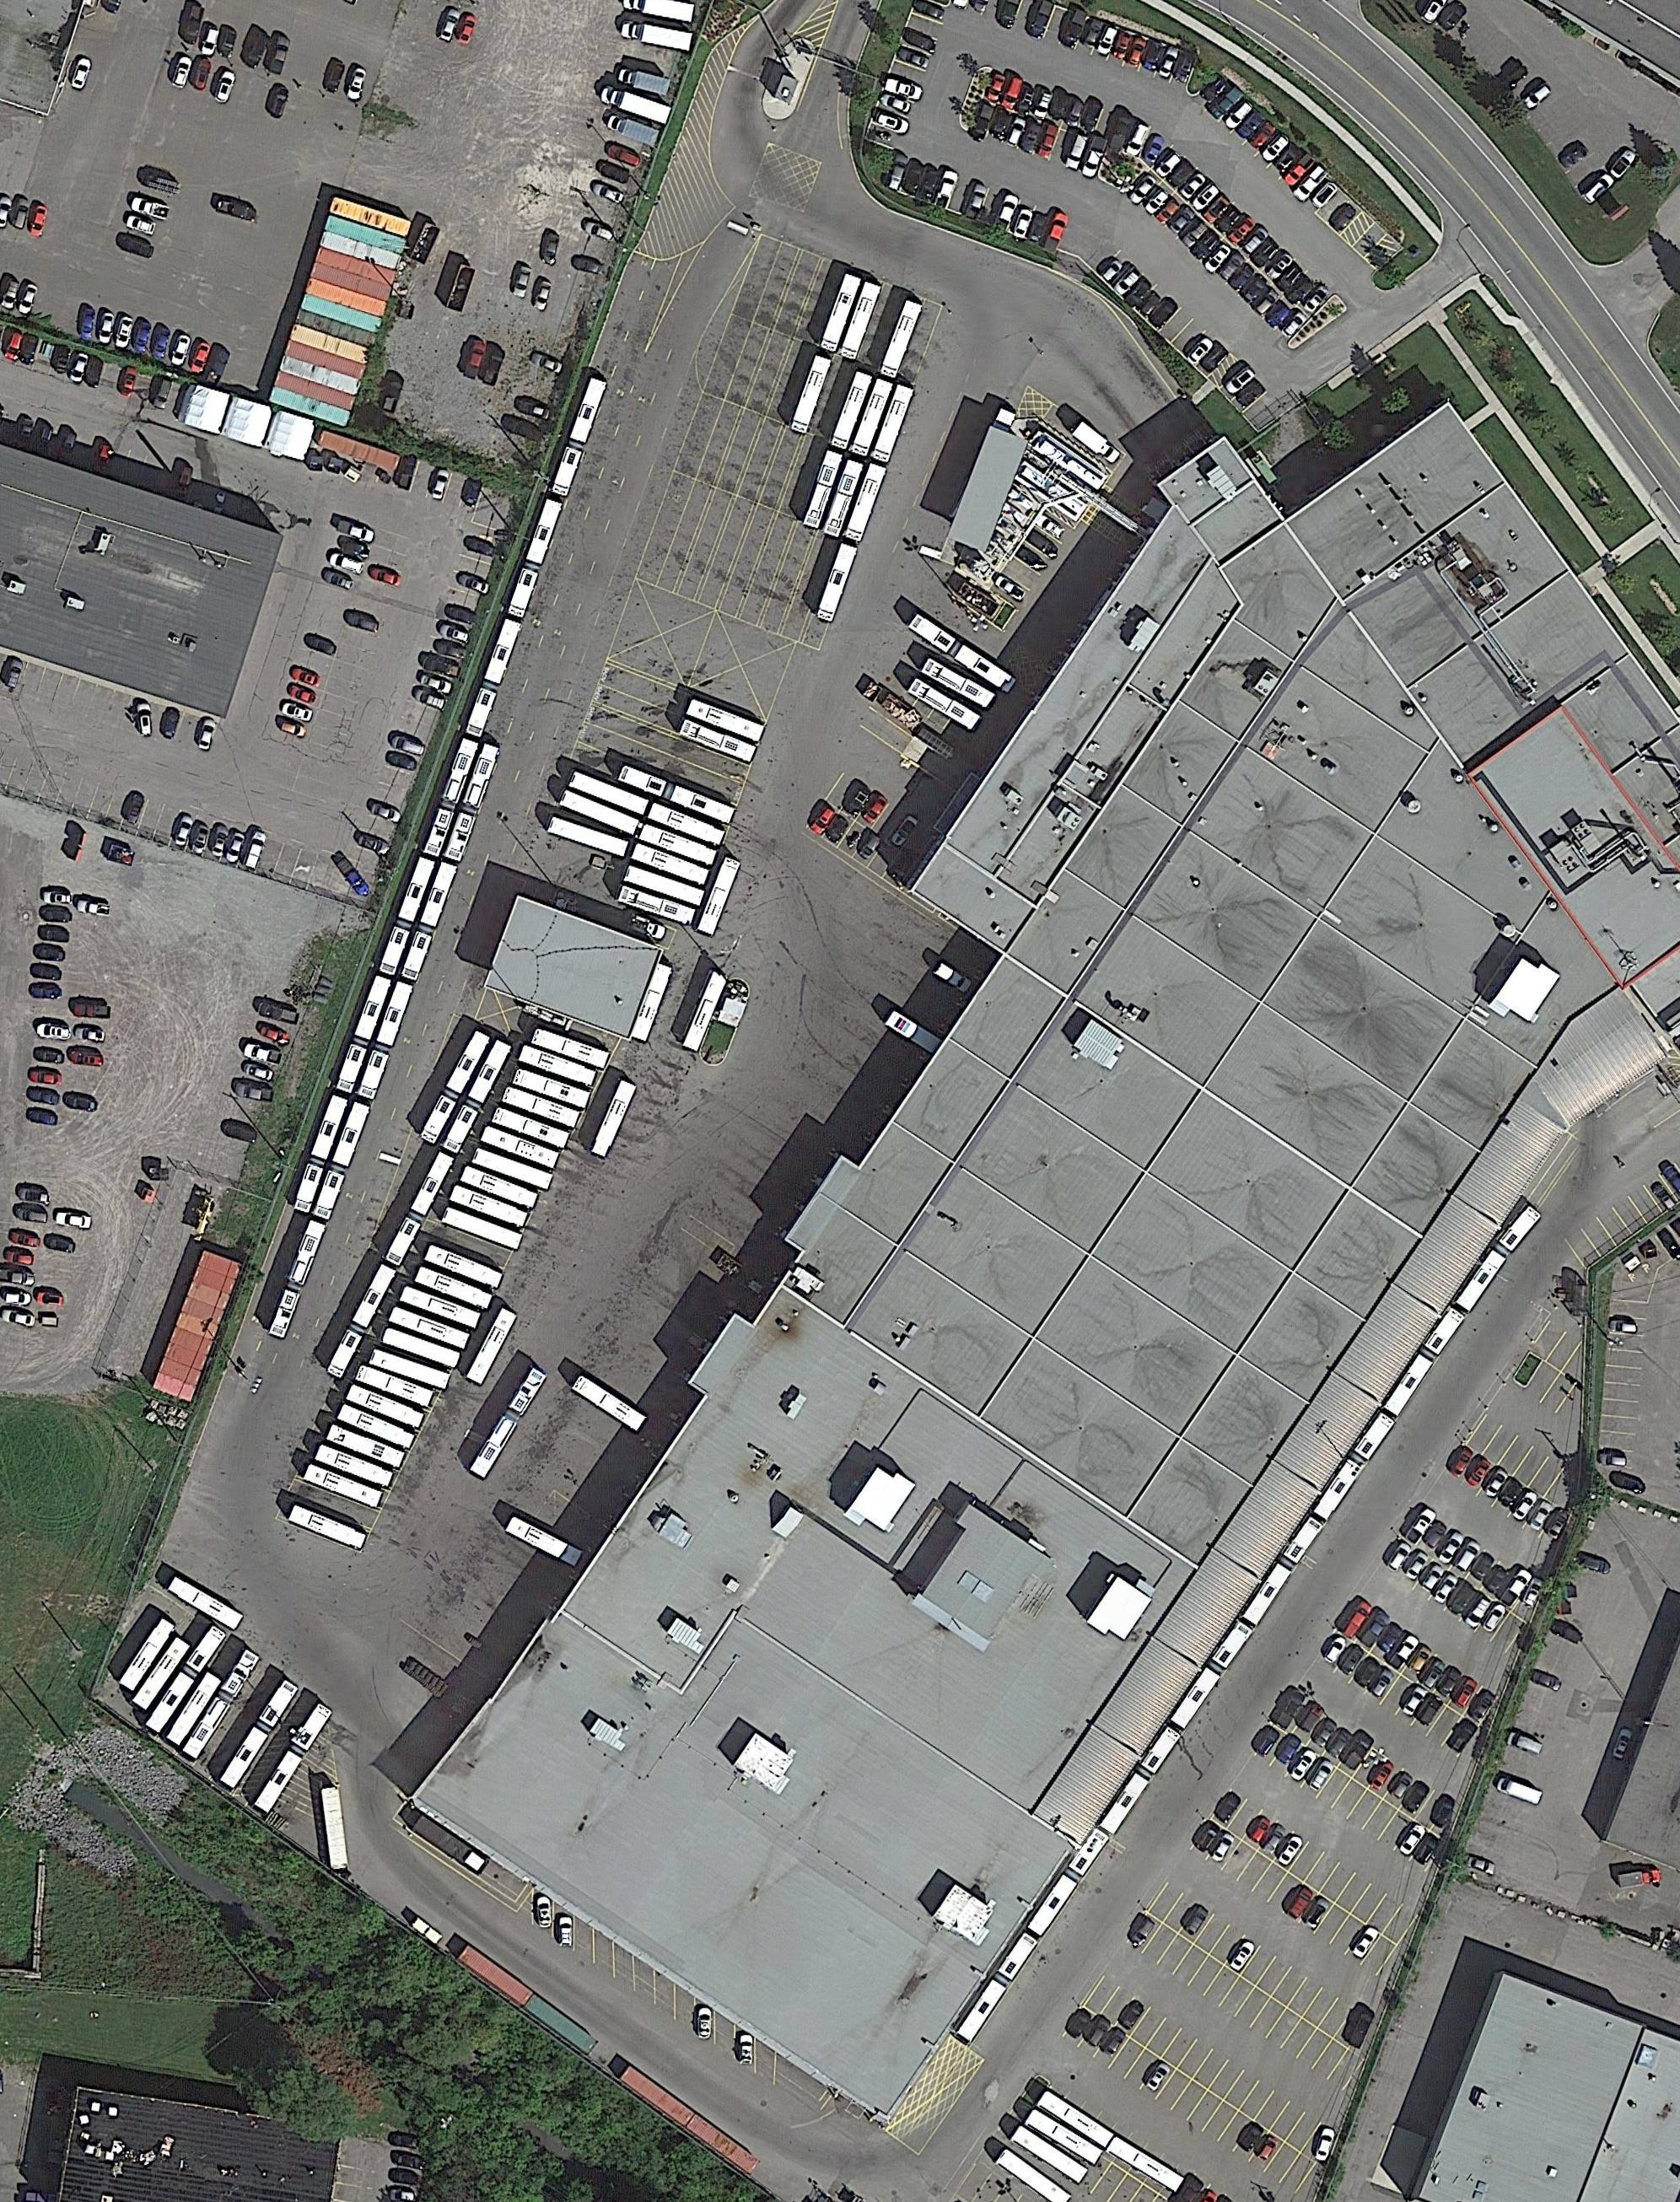large vehicle: (1451, 1202, 1546, 1316), (951, 1929, 1041, 2048), (1237, 1512, 1327, 1630), (1378, 1304, 1468, 1420), (249, 1701, 335, 1819), (1166, 1618, 1256, 1731), (1309, 1410, 1398, 1523), (1096, 1724, 1182, 1837), (217, 1676, 302, 1791), (1025, 1826, 1112, 1937), (468, 1366, 549, 1482), (416, 1025, 494, 1147), (907, 612, 1018, 697), (180, 1648, 263, 1761), (145, 1625, 229, 1734), (381, 1150, 457, 1269), (323, 1263, 399, 1380), (439, 1037, 514, 1156), (266, 1217, 328, 1341), (399, 859, 461, 983), (311, 1099, 372, 1221), (356, 979, 416, 1103), (618, 764, 738, 826), (291, 1092, 351, 1214), (506, 498, 566, 618), (466, 618, 524, 739), (424, 738, 482, 859), (335, 974, 394, 1096), (551, 376, 609, 498), (379, 856, 438, 976), (445, 743, 501, 865), (409, 1814, 491, 1877), (1034, 2087, 1115, 2149), (570, 1371, 648, 1434), (1106, 2133, 1184, 2197), (1011, 2123, 1091, 2184), (1024, 2107, 1105, 2167), (116, 1616, 178, 1692), (166, 1574, 245, 1632), (503, 1514, 584, 1570), (164, 1671, 224, 1747), (679, 967, 731, 1053), (325, 1420, 408, 1473), (588, 1078, 641, 1161), (919, 655, 997, 711), (335, 1399, 416, 1452), (909, 676, 985, 732), (468, 1304, 519, 1387), (344, 1382, 427, 1433), (694, 856, 745, 939), (559, 787, 642, 838), (132, 1637, 191, 1710), (353, 1362, 438, 1412), (566, 768, 651, 817), (314, 1440, 395, 1491), (304, 1461, 385, 1512), (686, 695, 766, 746), (367, 1344, 452, 1392), (678, 716, 759, 766), (441, 1205, 524, 1253), (471, 1145, 554, 1193), (415, 1263, 494, 1313), (994, 2144, 1061, 2202), (388, 1304, 473, 1350), (623, 861, 708, 907), (547, 813, 632, 859), (819, 270, 865, 355), (424, 1244, 505, 1292), (401, 1283, 482, 1330), (381, 1323, 462, 1371), (288, 1503, 369, 1551), (480, 1122, 561, 1170), (868, 383, 916, 464), (829, 369, 875, 452), (801, 448, 847, 531), (450, 1182, 529, 1230), (519, 1041, 598, 1089), (630, 840, 709, 888), (459, 1165, 540, 1210), (639, 822, 720, 868), (849, 378, 895, 459), (844, 462, 889, 543), (630, 962, 674, 1045), (879, 298, 923, 381), (815, 542, 859, 625), (648, 801, 727, 847), (618, 882, 697, 928), (821, 459, 866, 538), (512, 1066, 593, 1110), (789, 355, 833, 436), (531, 1025, 611, 1069), (501, 1085, 581, 1129), (840, 281, 882, 362), (492, 1106, 570, 1150), (319, 1784, 351, 1872)
small vehicle: (330, 850, 371, 898), (1288, 161, 1331, 205), (1338, 2003, 1376, 2050), (1355, 1606, 1392, 1651), (210, 191, 263, 222), (1272, 1685, 1308, 1733), (1495, 1775, 1546, 1807), (498, 411, 545, 445), (1205, 83, 1246, 122), (1496, 1567, 1534, 1609), (1403, 1507, 1440, 1549), (1338, 1599, 1375, 1641), (1338, 1729, 1375, 1771), (930, 960, 974, 995), (588, 175, 630, 208), (113, 229, 157, 261), (990, 192, 1022, 236), (256, 999, 302, 1029), (1444, 1579, 1479, 1618), (242, 28, 275, 69), (478, 344, 508, 388), (1078, 134, 1108, 178), (1281, 150, 1316, 187), (1221, 363, 1258, 399), (1223, 1937, 1258, 1974), (1387, 1634, 1421, 1673), (229, 1078, 275, 1106), (1059, 9, 1091, 49), (1505, 1726, 1546, 1757), (386, 729, 427, 760), (138, 166, 180, 196), (591, 157, 634, 187), (1581, 171, 1616, 206), (1145, 295, 1179, 332), (1301, 1895, 1334, 1932), (1274, 1831, 1308, 1869), (1435, 1528, 1466, 1567), (240, 831, 270, 872), (131, 192, 171, 222), (967, 101, 995, 143), (1221, 97, 1255, 132), (1525, 1500, 1558, 1535), (1334, 1643, 1368, 1678), (1286, 1749, 1320, 1784), (889, 812, 921, 849), (1142, 2057, 1174, 2094), (1350, 1923, 1382, 1960), (1285, 1884, 1316, 1921), (462, 337, 489, 381), (916, 161, 942, 205), (365, 563, 404, 593), (166, 53, 196, 92), (1546, 1616, 1585, 1646), (932, 171, 962, 210), (872, 106, 911, 136), (434, 618, 473, 648), (279, 699, 319, 727), (379, 376, 408, 416), (962, 180, 990, 221), (422, 653, 462, 681), (1521, 79, 1555, 113), (1188, 180, 1221, 213), (1239, 224, 1272, 258), (1382, 1540, 1415, 1574), (266, 32, 293, 74), (334, 517, 376, 543), (1189, 229, 1221, 265), (1126, 173, 1158, 208), (1606, 145, 1638, 180), (1509, 1489, 1541, 1524), (1396, 1823, 1428, 1858), (1447, 1719, 1479, 1754), (882, 76, 925, 102), (1124, 273, 1156, 309), (1211, 1791, 1242, 1826), (65, 56, 95, 94), (1463, 1593, 1493, 1630), (81, 351, 109, 390), (604, 141, 642, 169), (210, 67, 238, 106), (342, 607, 381, 635), (512, 395, 552, 422), (1062, 131, 1089, 171), (1034, 122, 1061, 162), (364, 798, 404, 824), (1556, 141, 1590, 173), (1226, 212, 1258, 245), (1325, 199, 1357, 233), (1258, 131, 1290, 164), (1246, 118, 1278, 152), (1235, 108, 1267, 141), (1452, 1539, 1484, 1572), (1399, 1683, 1431, 1717), (1350, 1657, 1382, 1690), (1184, 333, 1216, 367), (1285, 273, 1316, 307), (1241, 272, 1272, 305), (1115, 1997, 1147, 2031), (1165, 157, 1195, 192), (1431, 1572, 1461, 1607), (1466, 1689, 1496, 1724), (1452, 1676, 1482, 1711), (1366, 1667, 1396, 1703), (1218, 249, 1248, 284), (844, 783, 874, 819), (808, 803, 838, 838), (1306, 1759, 1336, 1794), (302, 630, 339, 658), (529, 348, 566, 376), (898, 159, 926, 196), (413, 686, 450, 715), (895, 44, 932, 72), (185, 335, 212, 374), (1429, 1791, 1456, 1830), (999, 74, 1025, 113), (455, 570, 494, 596), (441, 600, 480, 626), (1495, 1479, 1526, 1510), (1301, 284, 1332, 316), (1062, 2010, 1094, 2041), (1202, 192, 1232, 226), (1272, 141, 1302, 175), (1417, 1562, 1447, 1595), (1481, 1468, 1511, 1502), (1412, 1833, 1442, 1867), (1415, 1694, 1445, 1727), (1419, 1659, 1449, 1692), (1435, 1666, 1465, 1699), (1375, 1622, 1405, 1655), (1235, 2123, 1265, 2156), (1318, 1632, 1348, 1666), (1200, 341, 1230, 374), (1251, 286, 1281, 319), (1265, 249, 1295, 282), (1249, 236, 1279, 270), (244, 1041, 284, 1066), (1608, 1472, 1648, 1496), (1108, 111, 1133, 152), (886, 152, 911, 192), (288, 663, 323, 692), (124, 210, 159, 238), (1179, 168, 1207, 203), (1447, 1443, 1475, 1479), (1403, 1780, 1431, 1816), (1204, 242, 1232, 277), (1297, 1699, 1325, 1734), (1260, 1823, 1288, 1858), (328, 550, 365, 577), (438, 7, 464, 44), (394, 455, 420, 492), (222, 1119, 259, 1145), (462, 535, 499, 561), (1156, 44, 1182, 81), (385, 748, 422, 775), (900, 26, 937, 53), (266, 79, 291, 118), (538, 228, 563, 266), (34, 1018, 72, 1043), (1313, 2126, 1338, 2165), (1212, 205, 1242, 236), (1166, 205, 1196, 236), (1309, 178, 1339, 210), (1228, 263, 1258, 295), (1112, 265, 1142, 296), (1274, 263, 1304, 295), (1099, 2027, 1129, 2059), (1191, 1823, 1221, 1854), (1154, 194, 1182, 228), (1368, 1759, 1396, 1793), (1403, 1551, 1431, 1584), (1546, 1509, 1574, 1542), (1465, 1456, 1493, 1489), (861, 792, 889, 826), (1279, 309, 1308, 342), (1182, 1904, 1211, 1937), (321, 566, 356, 593), (286, 681, 321, 708), (274, 715, 309, 741), (192, 718, 219, 753), (427, 468, 454, 503), (1094, 23, 1121, 58), (1609, 1726, 1636, 1761), (988, 106, 1015, 141), (150, 372, 175, 409), (185, 820, 210, 858), (222, 828, 247, 865), (60, 1090, 97, 1115), (1528, 1667, 1565, 1692), (416, 672, 454, 697), (355, 831, 392, 856), (392, 2149, 429, 2174), (1200, 76, 1230, 106), (1152, 150, 1182, 180), (1237, 379, 1267, 409), (1142, 185, 1170, 217), (1481, 1602, 1509, 1634), (1470, 1551, 1498, 1583), (1406, 1644, 1435, 1676), (856, 829, 884, 861), (1325, 1727, 1354, 1759), (1311, 1717, 1339, 1749), (1084, 2017, 1112, 2048), (1253, 1726, 1281, 1757), (344, 64, 367, 102), (113, 311, 136, 349), (1080, 16, 1106, 49), (1521, 1576, 1548, 1609), (1128, 1914, 1154, 1948), (1209, 1831, 1235, 1865), (171, 813, 196, 849), (16, 281, 41, 316), (258, 1022, 293, 1046), (189, 56, 214, 92), (1124, 122, 1149, 157), (76, 896, 113, 919), (2, 326, 25, 363), (26, 201, 49, 238), (531, 275, 554, 312), (199, 21, 222, 58), (1080, 97, 1103, 134), (1264, 300, 1292, 330), (1276, 1734, 1304, 1764), (1482, 1563, 1509, 1595), (1421, 1521, 1447, 1553), (824, 813, 851, 845), (1248, 1816, 1274, 1847), (124, 790, 148, 824), (9, 198, 34, 231), (455, 14, 480, 48), (582, 219, 616, 243), (1172, 51, 1196, 85), (1004, 116, 1029, 150), (132, 316, 154, 355), (11, 1205, 49, 1226), (1574, 1553, 1613, 1574), (115, 363, 138, 399), (0, 1307, 35, 1330), (572, 254, 607, 277), (510, 263, 533, 298), (1015, 81, 1038, 116), (434, 639, 469, 662), (1181, 221, 1209, 249), (341, 536, 371, 563), (1387, 1771, 1414, 1801), (1253, 2133, 1279, 2163), (32, 942, 72, 962), (2, 658, 26, 690), (169, 330, 191, 367), (69, 1048, 106, 1069), (881, 90, 912, 115), (208, 824, 231, 858), (0, 277, 23, 311), (7, 1226, 41, 1249), (242, 1060, 275, 1083), (44, 1233, 78, 1256), (1032, 86, 1055, 120), (1142, 39, 1165, 72), (1126, 35, 1149, 69), (1011, 206, 1034, 240), (985, 71, 1008, 104), (95, 307, 115, 346), (152, 321, 171, 360), (72, 1000, 111, 1020), (325, 58, 346, 94), (25, 1085, 60, 1106), (25, 1106, 60, 1127), (386, 2130, 422, 2151), (1020, 122, 1043, 154), (1142, 131, 1165, 162), (69, 348, 88, 385), (217, 25, 238, 58), (35, 1288, 69, 1309), (30, 962, 64, 983), (1064, 95, 1085, 129), (1138, 289, 1163, 318), (19, 330, 39, 365), (26, 1066, 62, 1085), (535, 1895, 554, 1930), (2, 1244, 34, 1265), (1112, 30, 1133, 62), (1465, 1856, 1496, 1877), (461, 476, 482, 508), (39, 905, 76, 923), (1099, 258, 1124, 284), (74, 1025, 108, 1045), (32, 1046, 65, 1066), (78, 303, 95, 339), (37, 925, 72, 942), (56, 1210, 92, 1228), (556, 1914, 574, 1950), (53, 344, 72, 376), (162, 709, 182, 741), (18, 1186, 49, 1205), (136, 702, 154, 736), (4, 1269, 37, 1286), (738, 2033, 755, 2066), (1050, 90, 1069, 120), (1599, 1450, 1627, 1470), (392, 2167, 420, 2186), (32, 983, 62, 1000), (697, 2008, 713, 2040), (1611, 1316, 1639, 1334), (41, 889, 74, 903), (4, 1290, 32, 1306)
